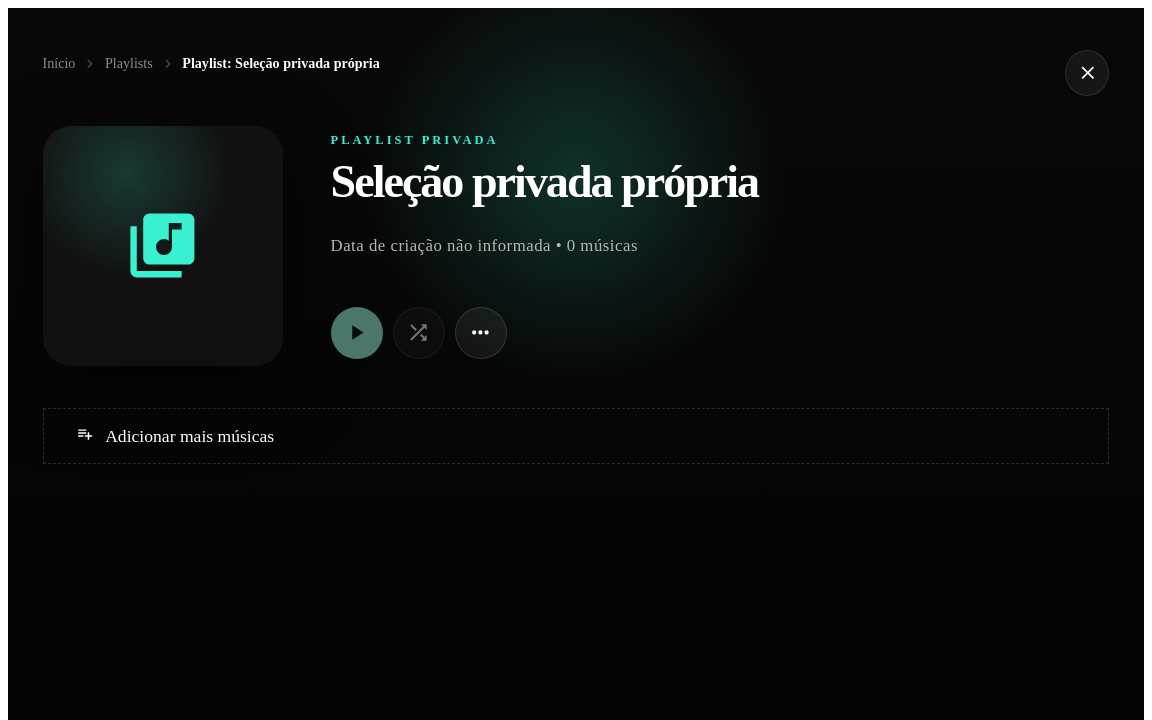
it: opens the playlist sharing modal from the owner actions menu
The image size is (1152, 720).
Expected: the heading "Seleção privada própria" is shown, 330,160 -> 758,203
What coordinates should you click on to do the following:
click the button named "Mais ações da playlist"
I would click on:
 (480, 333)
Its box is 454,307 -> 506,359.
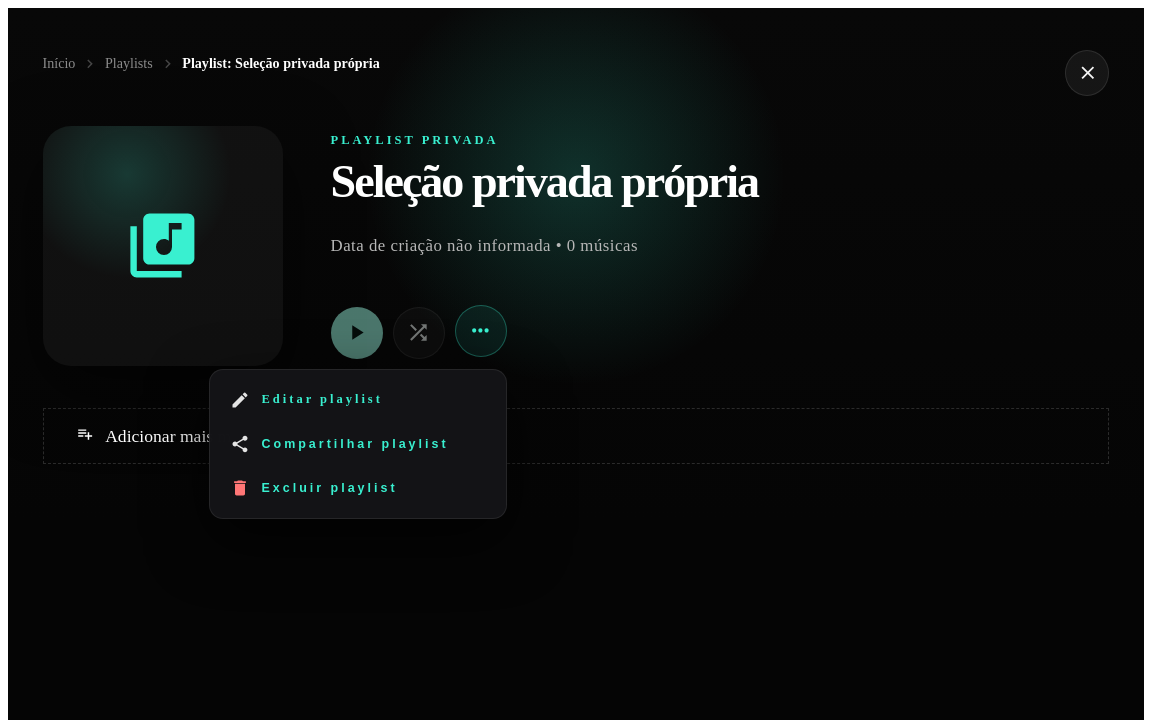
What coordinates should you click on to do the following:
click the menu item "Compartilhar playlist"
I would click on:
 (358, 444)
Its box is 218,422 -> 498,466.
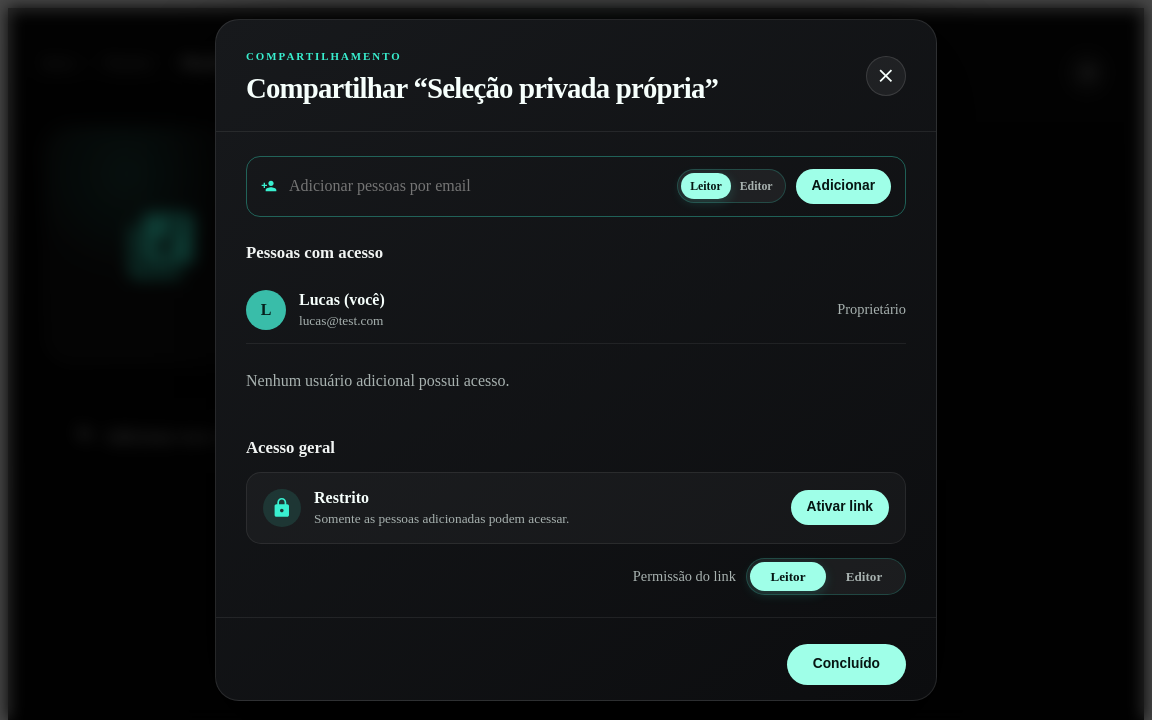
Result: the heading "Compartilhar “Seleção privada própria”" is shown at 246,72 -> 718,105
